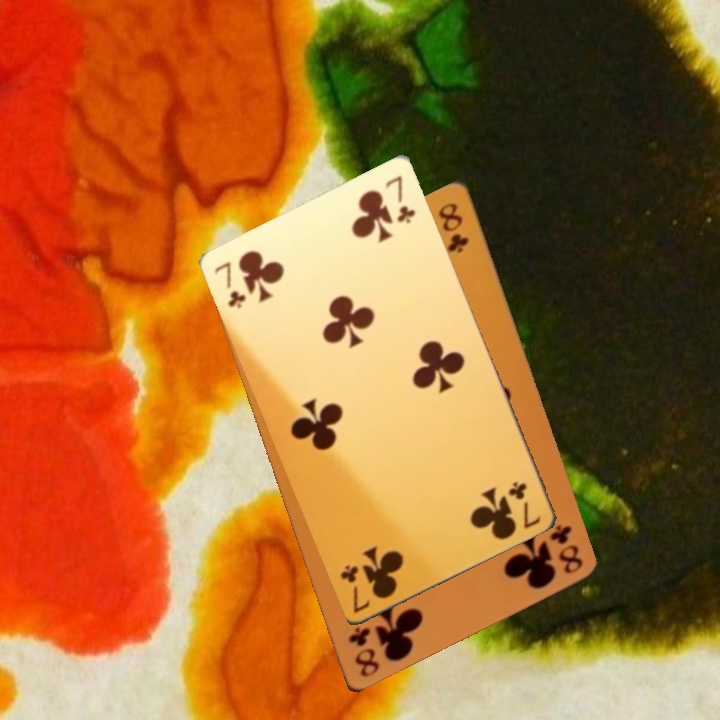7c: (504, 467, 547, 530), (334, 552, 377, 615), (209, 251, 252, 314), (379, 166, 422, 228)
